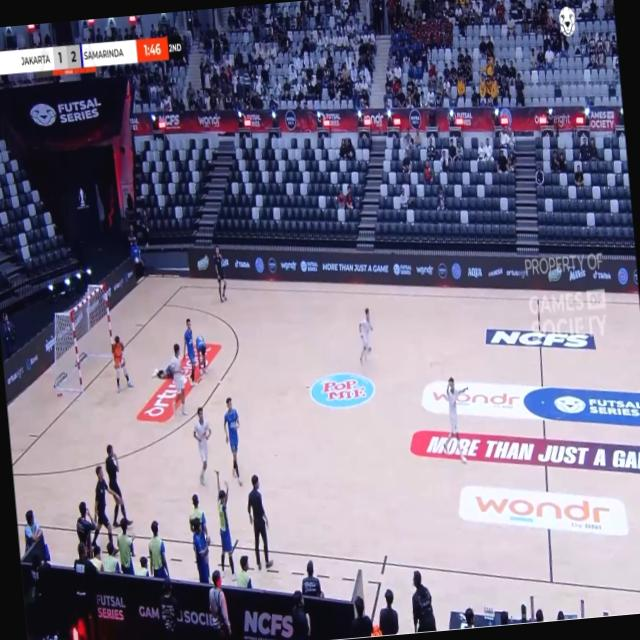keeper: (111, 334, 130, 391)
